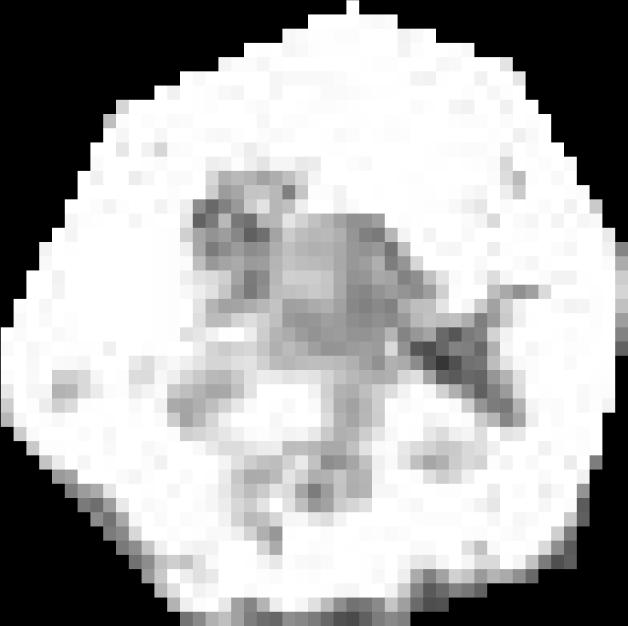tumor_good_chance: (1, 0, 628, 626)
